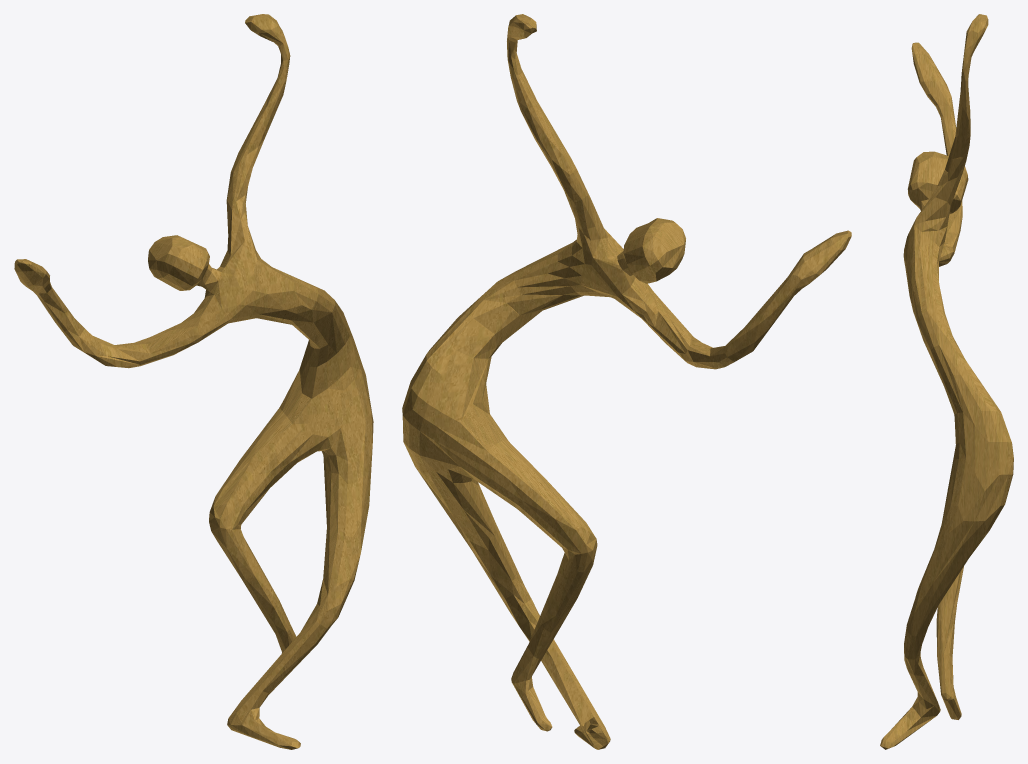
The model's file is google poly vang.obj.
3 renders of one model, left to right at view 1: azimuth 30°, elevation 25°; view 2: azimuth 150°, elevation 25°; view 3: azimuth 270°, elevation 25°, orthographic. The views are drawn at different scales.
Visible parts, largest first — view 1: Obj3d66_511939_1_256; view 2: Obj3d66_511939_1_256; view 3: Obj3d66_511939_1_256.
Part boxes in pixels (bbox=[...]): Obj3d66_511939_1_256: bbox=[14, 14, 373, 749]; Obj3d66_511939_1_256: bbox=[402, 14, 851, 749]; Obj3d66_511939_1_256: bbox=[880, 14, 1013, 749].
Size of the model in its own units: 394 by 688 by 113.
1 material, 1 textured.
